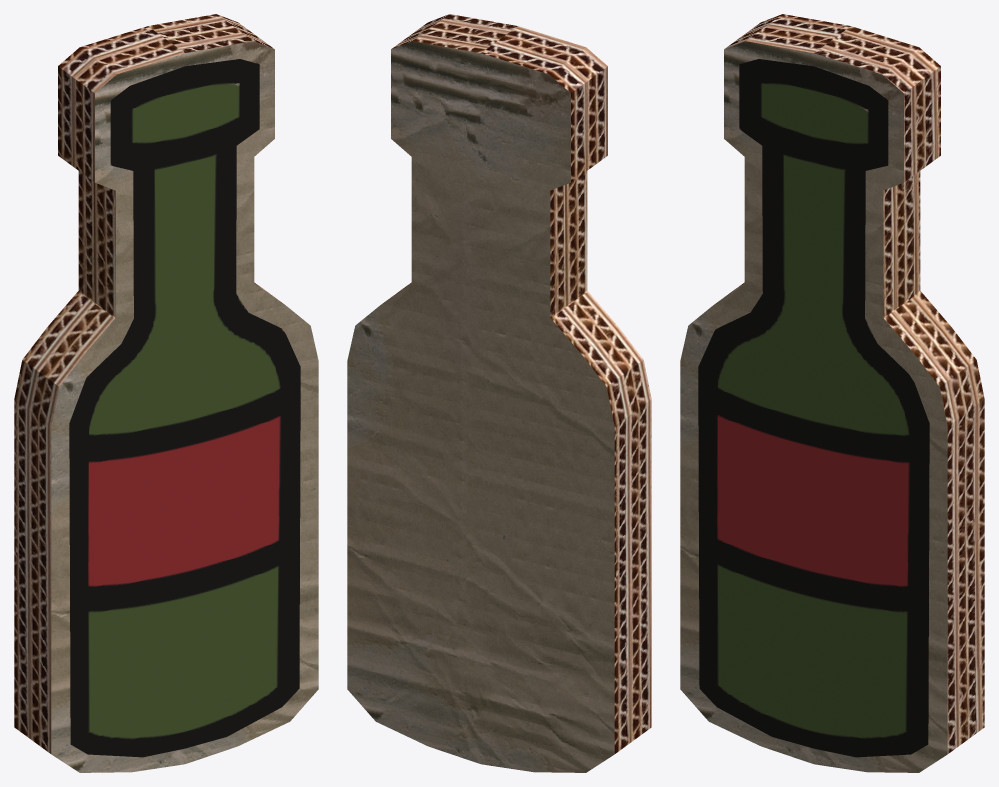
Rendered from bottle3.fbx.
3 views of the same model, side by side, from view 1: azimuth 30°, elevation 25°; view 2: azimuth 150°, elevation 25°; view 3: azimuth 330°, elevation 25° (orthographic).
Parts seen in each view (by area): view 1: bottle3; view 2: bottle3; view 3: bottle3.
Boxes of the visible parts, x1=… form: bottle3: x1=14, y1=14, x2=318, y2=772; bottle3: x1=347, y1=14, x2=651, y2=772; bottle3: x1=680, y1=14, x2=984, y2=772.
Bounding box in the file's own units: 33.3 × 84.61 × 8.
